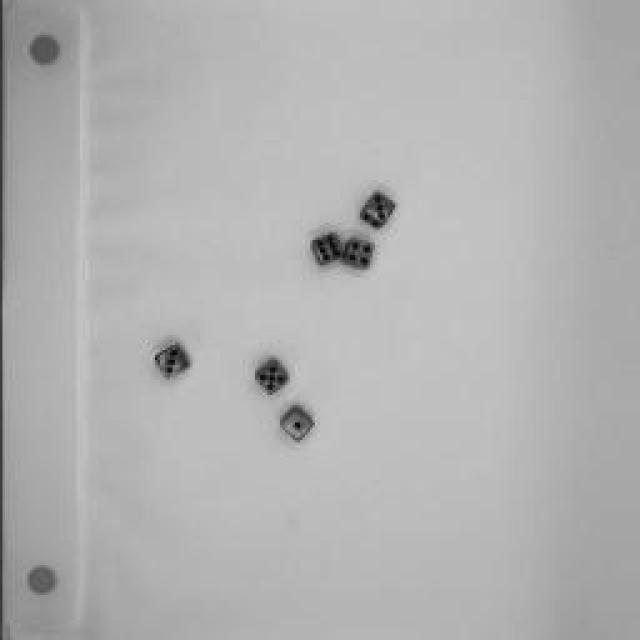dice_1: (270, 402, 320, 448)
dice_3: (146, 339, 199, 391), (355, 187, 400, 235)
dice_4: (340, 229, 380, 279)
dice_5: (249, 351, 291, 404)
dice_6: (308, 229, 348, 269)
